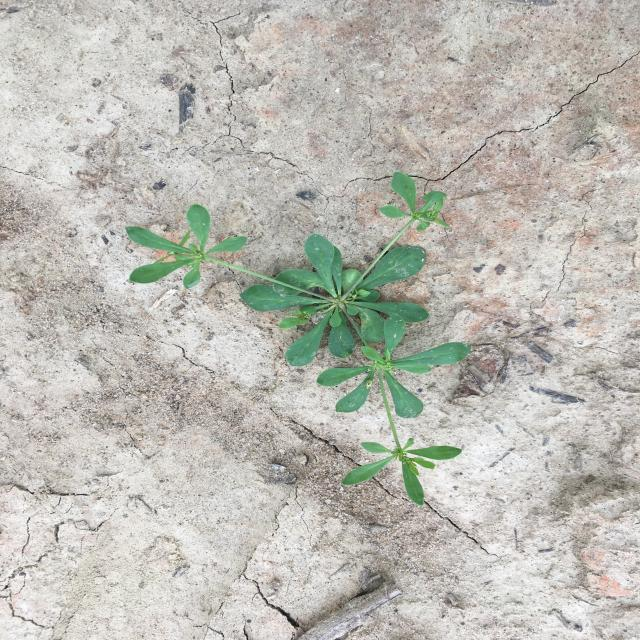Carpetweed: (125, 171, 472, 506)
